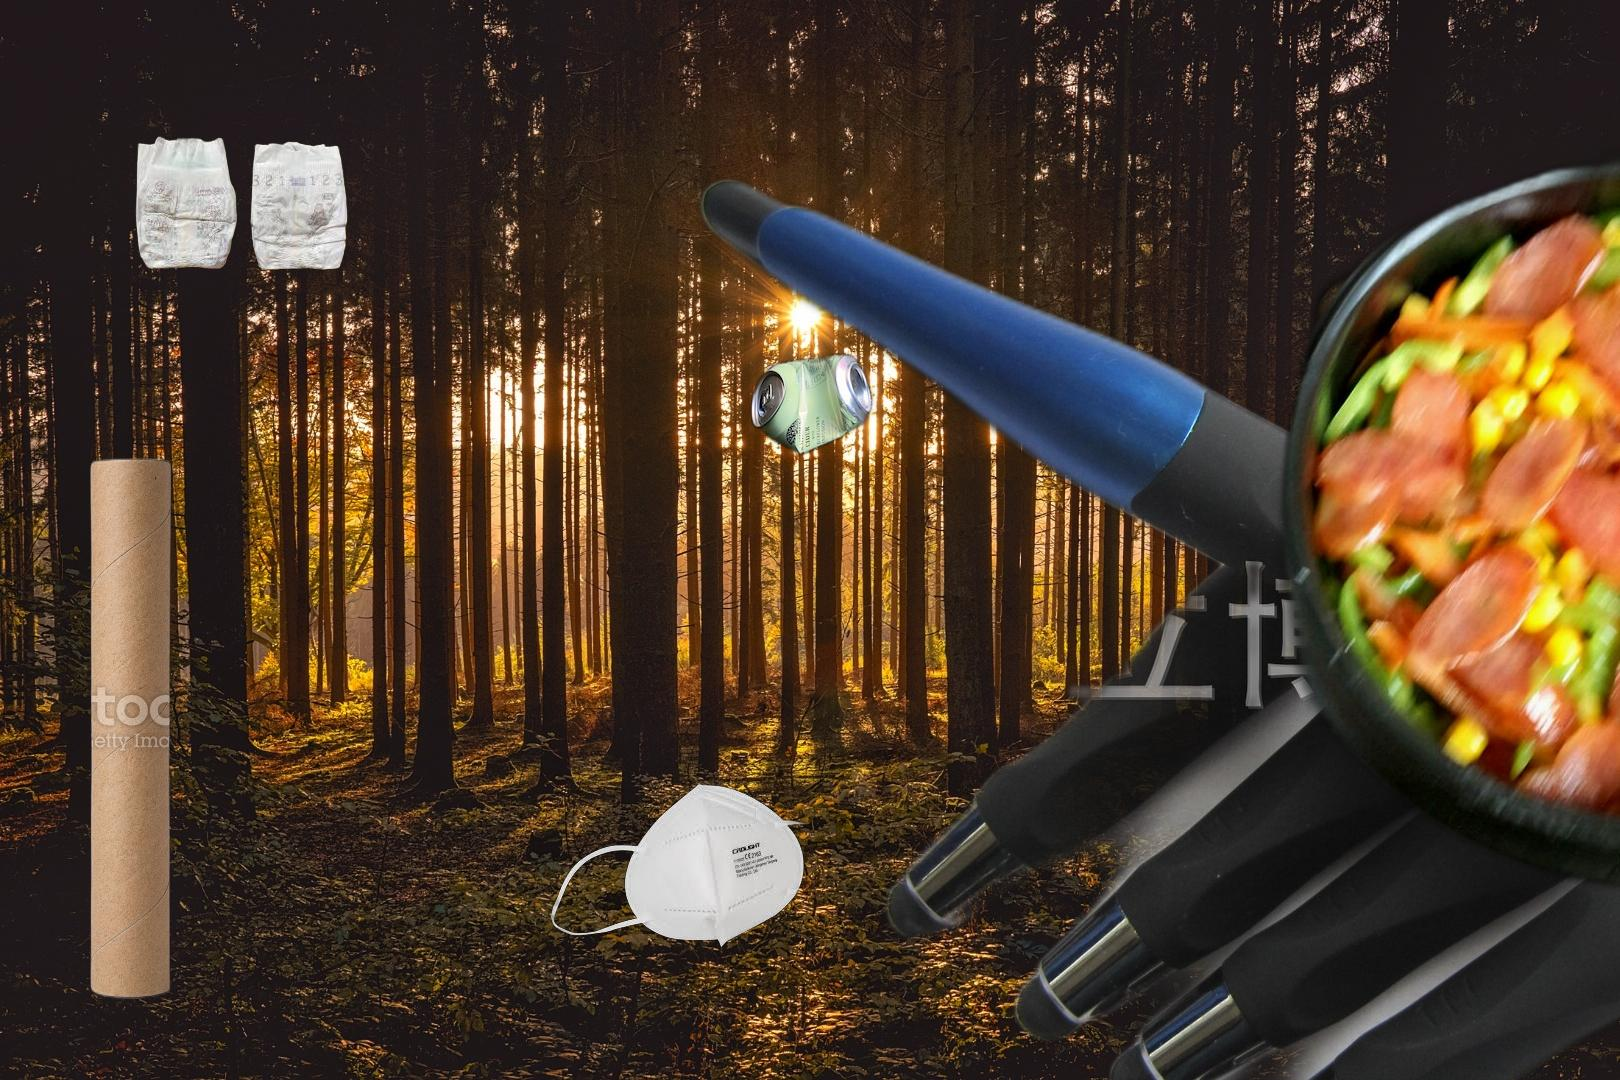biological: (1266, 118, 1620, 906)
metal-cans: (732, 348, 925, 761)
paper-bag: (1499, 299, 1620, 495)
penholder: (683, 93, 1620, 1080)
trash: (551, 783, 858, 947), (133, 133, 351, 274)
trashbox-cardboard: (88, 453, 174, 1003)
